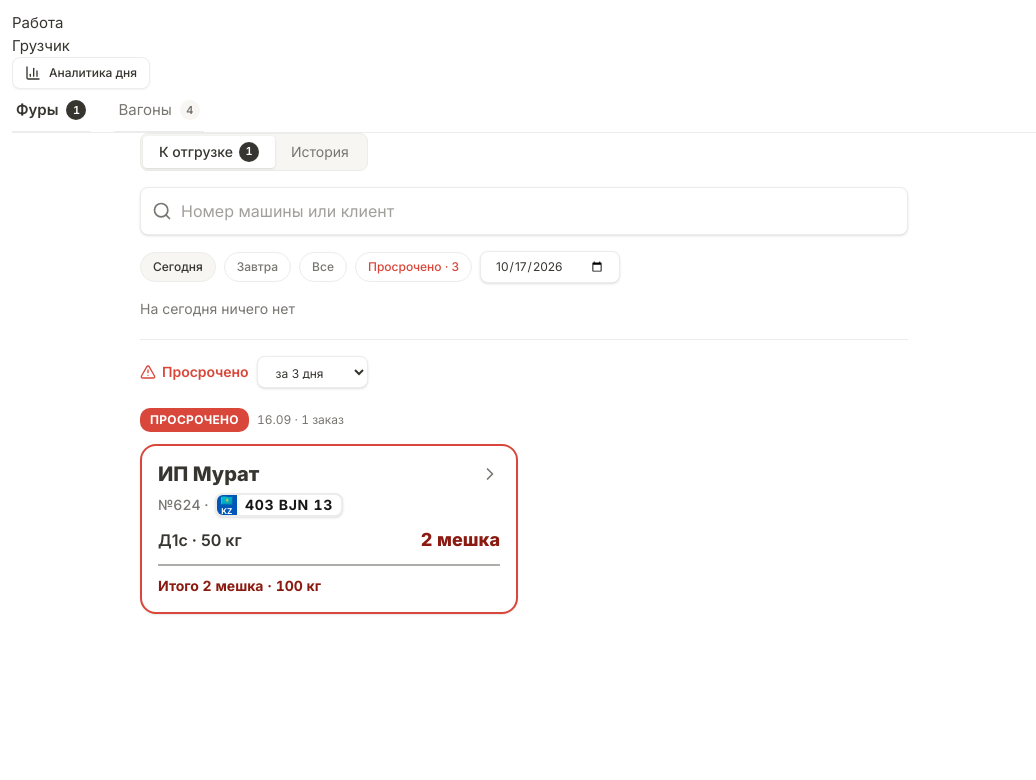
LoaderPage › пару, указанную клиентом, показывает только для чтения
Click the button "№624" at (209, 474), box [140,444,518,614]
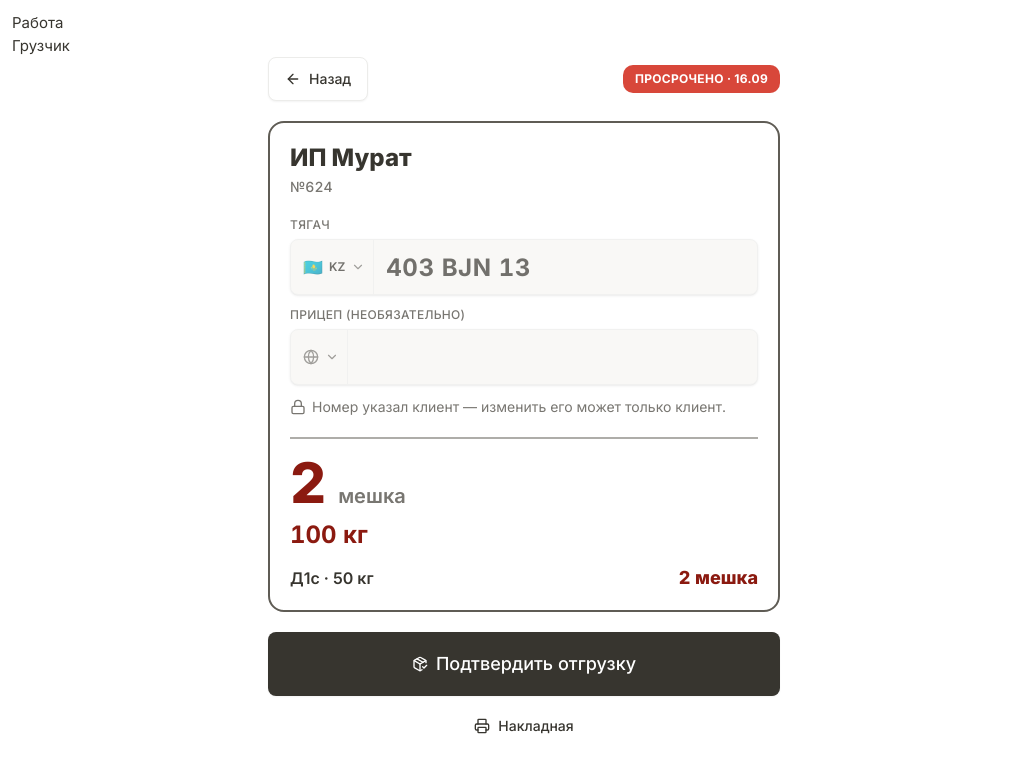
Expected: the field labelled "Тягач" is disabled, [374,240,757,294]
Expected: the text "Номер указал клиент — изменить его может только клиент." is shown, [290,397,758,417]
Expected: the button "Подтвердить отгрузку" is enabled, [268,632,780,696]
